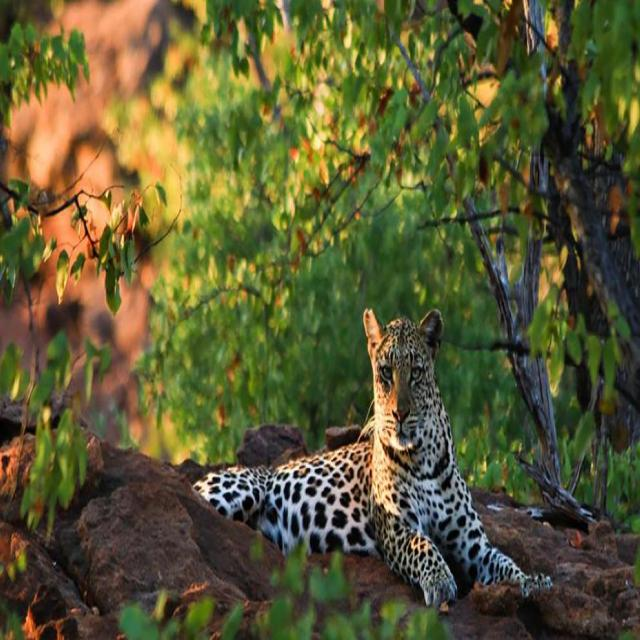Leopard: (193, 306, 549, 612)
